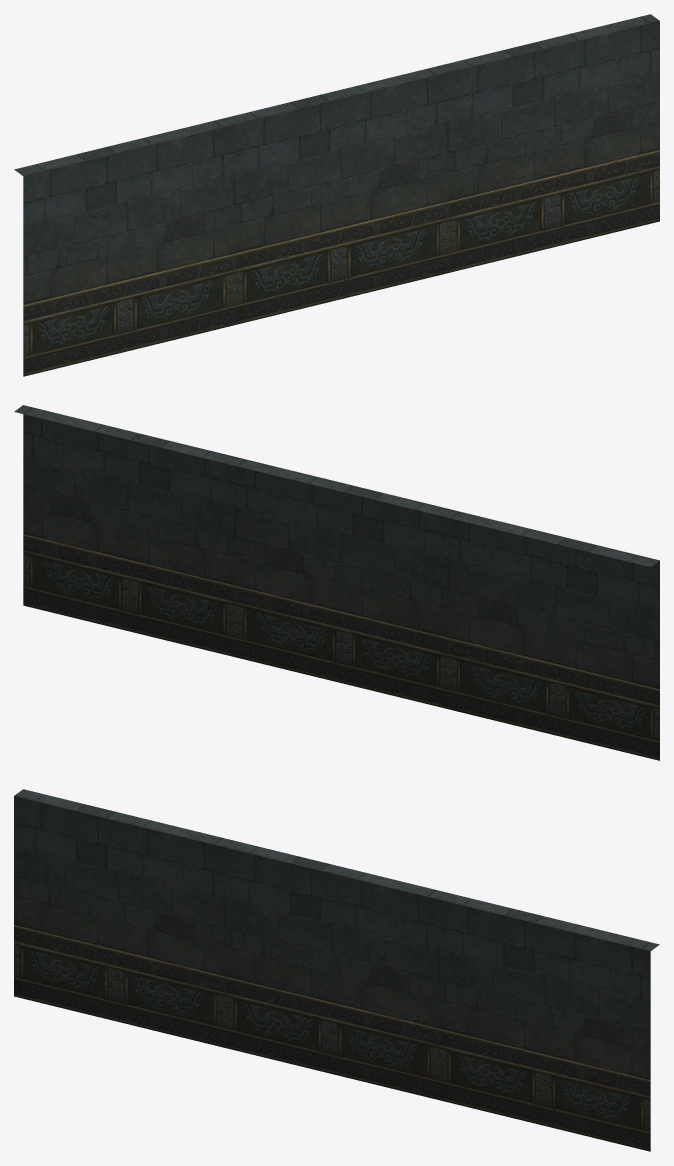
The model's file is environment_Building_yingdi_hantianta_001_a.FBX.
3 renders of one model, top to bottom at view 1: azimuth 30°, elevation 25°; view 2: azimuth 150°, elevation 25°; view 3: azimuth 330°, elevation 25°, orthographic.
Parts seen in each view (by area): view 1: environment_Building_yingdi_hantianta_001_a; view 2: environment_Building_yingdi_hantianta_001_a; view 3: environment_Building_yingdi_hantianta_001_a.
Boxes of the visible parts, bbox=[...] form: environment_Building_yingdi_hantianta_001_a: bbox=[14, 14, 659, 376]; environment_Building_yingdi_hantianta_001_a: bbox=[14, 405, 659, 760]; environment_Building_yingdi_hantianta_001_a: bbox=[14, 789, 659, 1151].
Size of the model in its own units: 6115 by 155 by 1840.
1 material, 1 textured.
